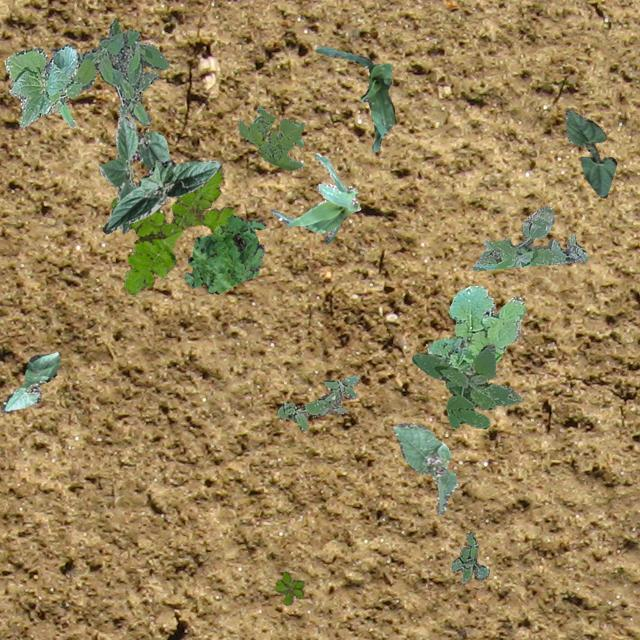crop: (102, 158, 220, 232), (314, 46, 394, 152), (98, 115, 168, 232), (268, 152, 359, 242), (4, 45, 80, 126), (392, 424, 456, 514), (564, 108, 616, 196), (0, 350, 60, 412)
weed: (110, 168, 232, 296), (49, 16, 168, 124), (412, 342, 520, 428), (426, 284, 524, 372), (471, 204, 586, 270), (182, 214, 266, 292), (276, 374, 358, 430), (236, 106, 304, 170), (450, 530, 488, 582), (274, 570, 304, 604)
